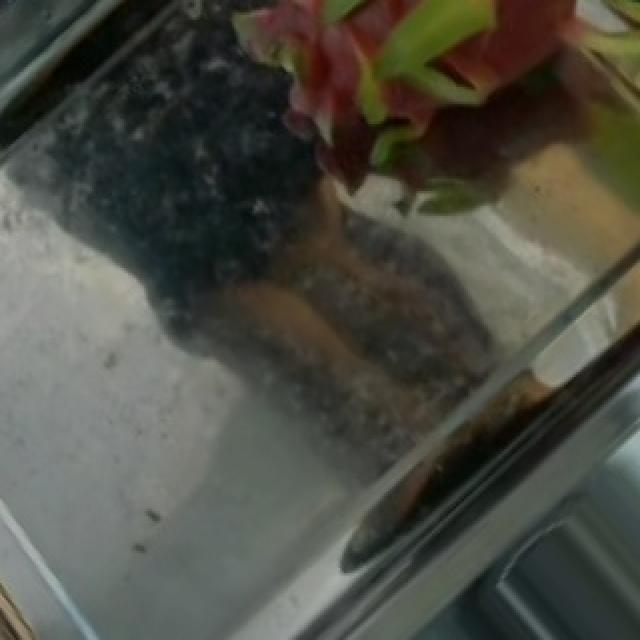fruit: (226, 0, 638, 322)
